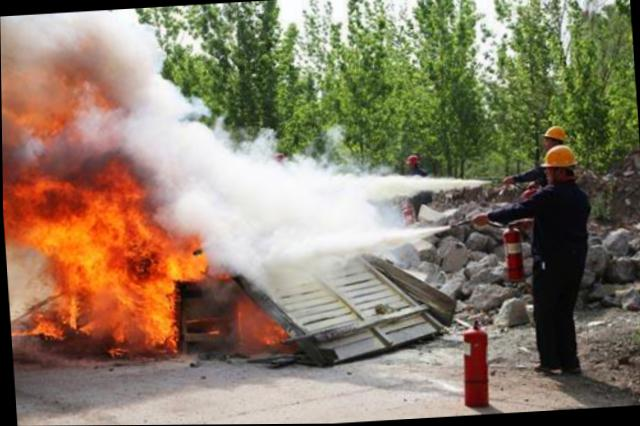fire: (2, 160, 158, 250), (62, 270, 179, 355), (55, 235, 209, 284), (11, 306, 65, 339)
